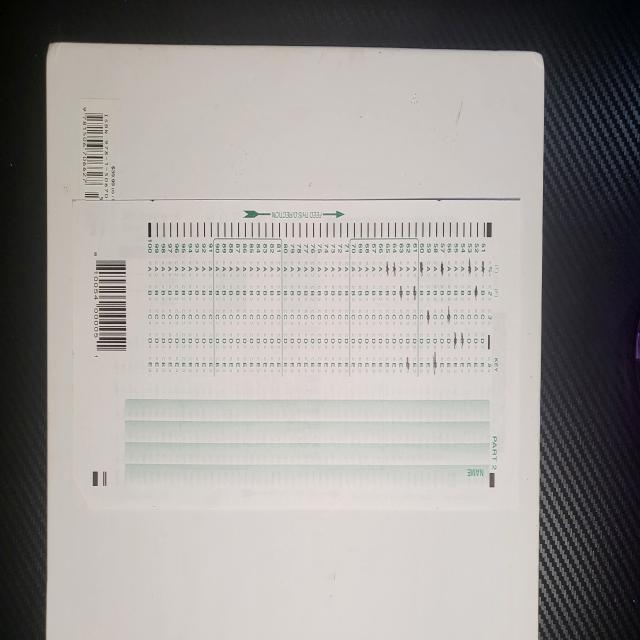scantron_back: (72, 199, 520, 510)
